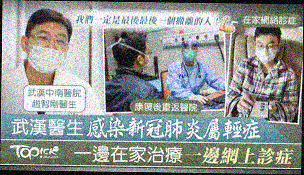with_mask: (25, 26, 69, 73), (254, 39, 278, 64), (141, 48, 153, 73), (183, 44, 199, 61)
